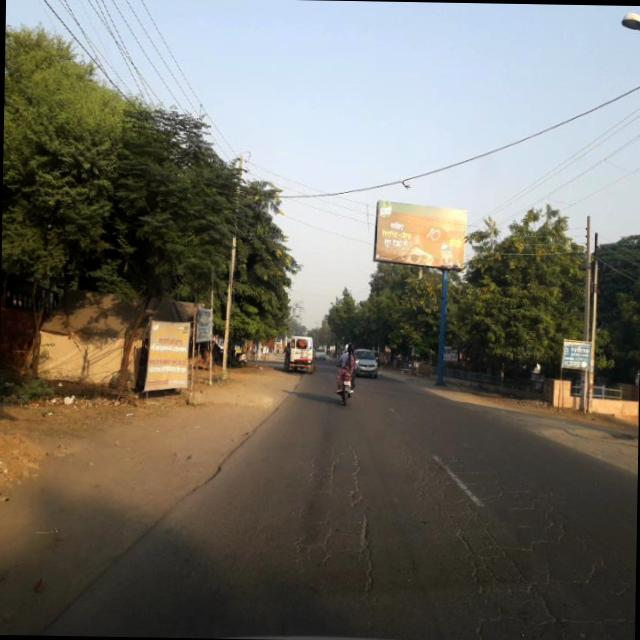crack: (432, 450, 635, 640)
pothole: (296, 436, 382, 603)
